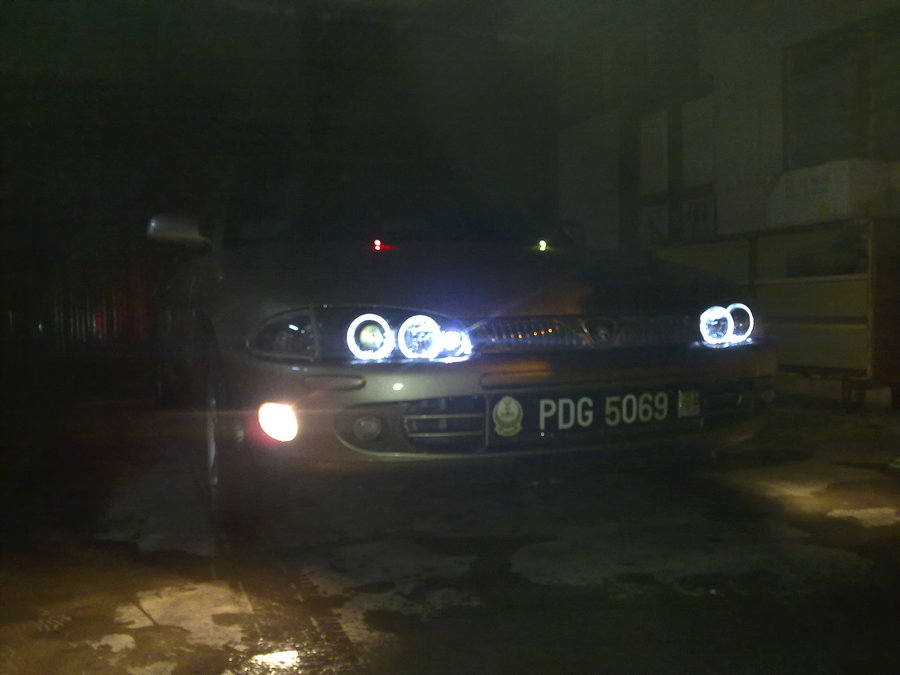car: (128, 106, 801, 526)
